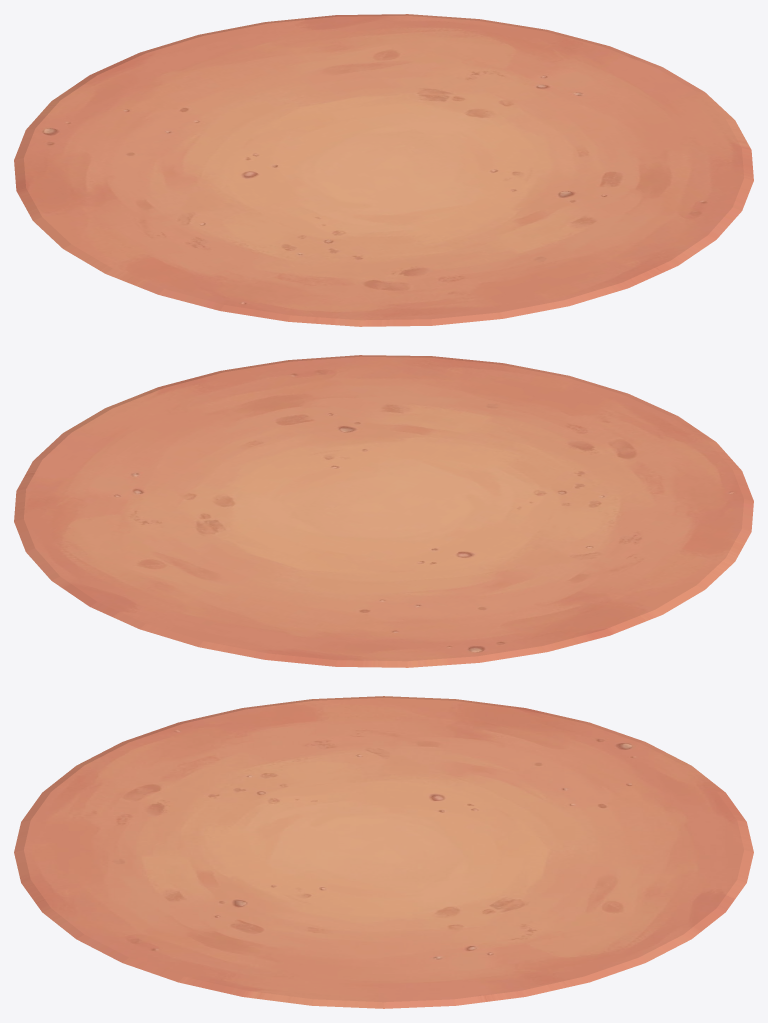
The model's file is LobbyFloor.glb.
3 views of the same model, one above another, from view 1: azimuth 30°, elevation 25°; view 2: azimuth 150°, elevation 25°; view 3: azimuth 270°, elevation 25° (orthographic).
Parts seen in each view (by area): view 1: LobbyFloor02; view 2: LobbyFloor02; view 3: LobbyFloor02.
Boxes of the visible parts, x1=… form: LobbyFloor02: x1=14, y1=14, x2=753, y2=326; LobbyFloor02: x1=14, y1=355, x2=753, y2=667; LobbyFloor02: x1=14, y1=696, x2=753, y2=1008.
Size of what is drawn, in the model's own units: 38.15 by 0.1404 by 38.15.
Materials: 1 (1 with a texture image).
